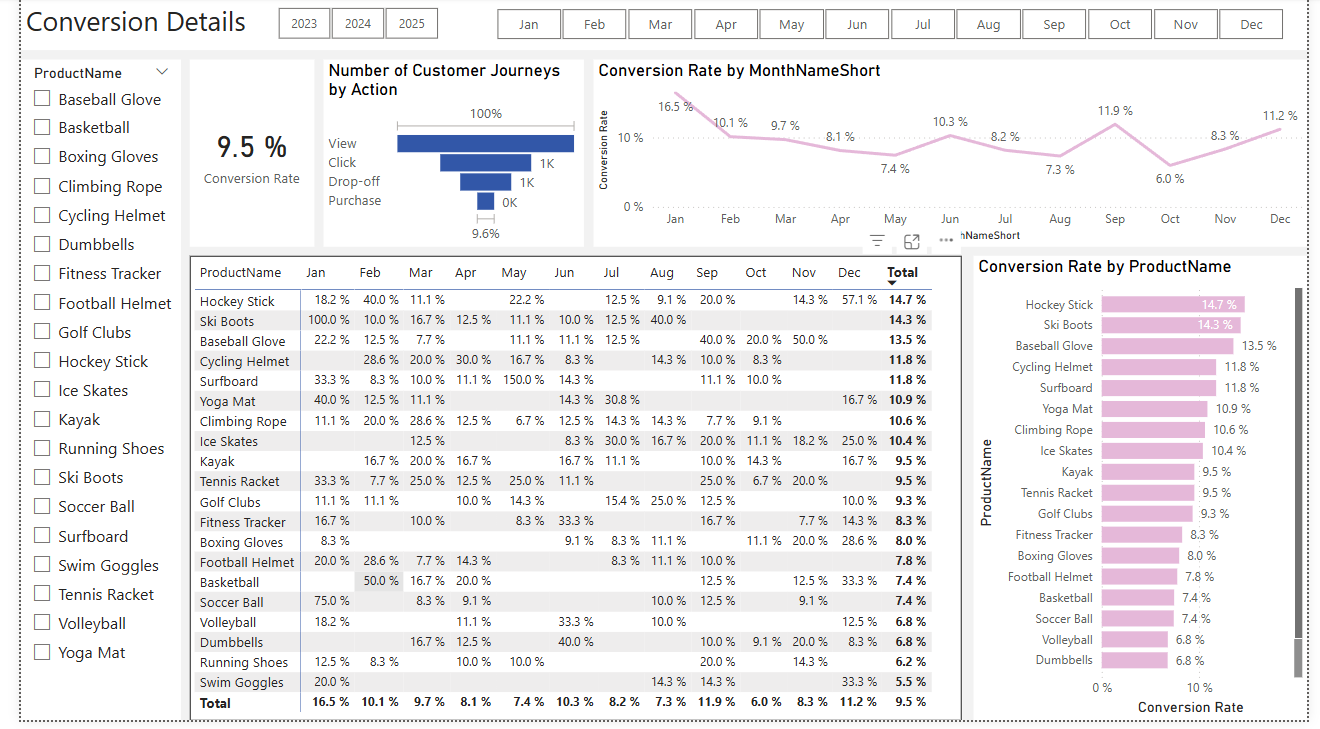

The page's visual inventory and layout, read from the dashboard file:
{"tool":"powerbi","page":{"name":"Conversion Details","canvas":[1280,720],"ordinal":1},"visuals":[{"type":"textbox","box":[0,0,1280,52.6],"z":0},{"type":"slicer","fields":{"Values":["dim_products.ProductName"]},"box":[0,61.9,159.4,658.4],"z":1000},{"type":"card","fields":{"Values":["_Calculations.Conversion Rate"]},"box":[168.5,61.9,123.8,186.7],"z":2000},{"type":"lineChart","fields":{"Y":["_Calculations.Conversion Rate"],"Category":["Calendar.MonthNameShort"]},"box":[570.1,61.9,710.3,186.7],"z":3000},{"type":"clusteredBarChart","fields":{"Category":["dim_products.ProductName"],"Y":["_Calculations.Conversion Rate"]},"box":[948,257.7,332.4,462.6],"z":4000},{"type":"slicer","fields":{"Values":["Calendar.Year"]},"box":[230.2,4.1,208.5,44.4],"z":5000},{"type":"slicer","fields":{"Values":["Calendar.MonthNameShort"]},"box":[448,4.6,832.3,43.7],"z":6000},{"type":"pivotTable","fields":{"Rows":["dim_products.ProductName"],"Values":["_Calculations.Conversion Rate"],"Columns":["Calendar.MonthNameShort"]},"box":[168.5,257.7,768.6,462.6],"z":7000},{"type":"funnel","fields":{"Category":["fact_customer_journey.Action"],"Y":["_Calculations.Number of Customer Journeys"]},"box":[301.4,61.9,259.5,186.7],"z":8000}]}

Visuals, with their boxes in screenshot pixels (x1, y1, x2, y2), scaled from the page's 1280x720 canvas onto the 1320x729 screenshot:
textbox: 0:0:1319:53
slicer - dim_products.ProductName: 0:63:164:728
card - _Calculations.Conversion Rate: 174:63:301:252
lineChart - _Calculations.Conversion Rate x Calendar.MonthNameShort: 588:63:1319:252
clusteredBarChart - dim_products.ProductName x _Calculations.Conversion Rate: 978:261:1319:728
slicer - Calendar.Year: 237:4:452:49
slicer - Calendar.MonthNameShort: 462:5:1319:49
pivotTable - dim_products.ProductName x _Calculations.Conversion Rate: 174:261:966:728
funnel - fact_customer_journey.Action x _Calculations.Number of Customer Journeys: 311:63:578:252
